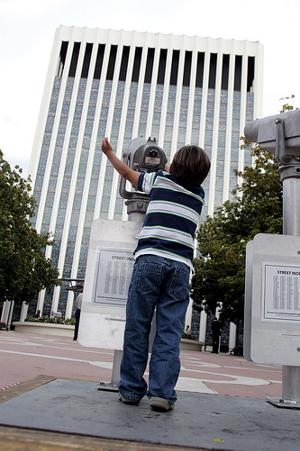person: (103, 135, 210, 412)
